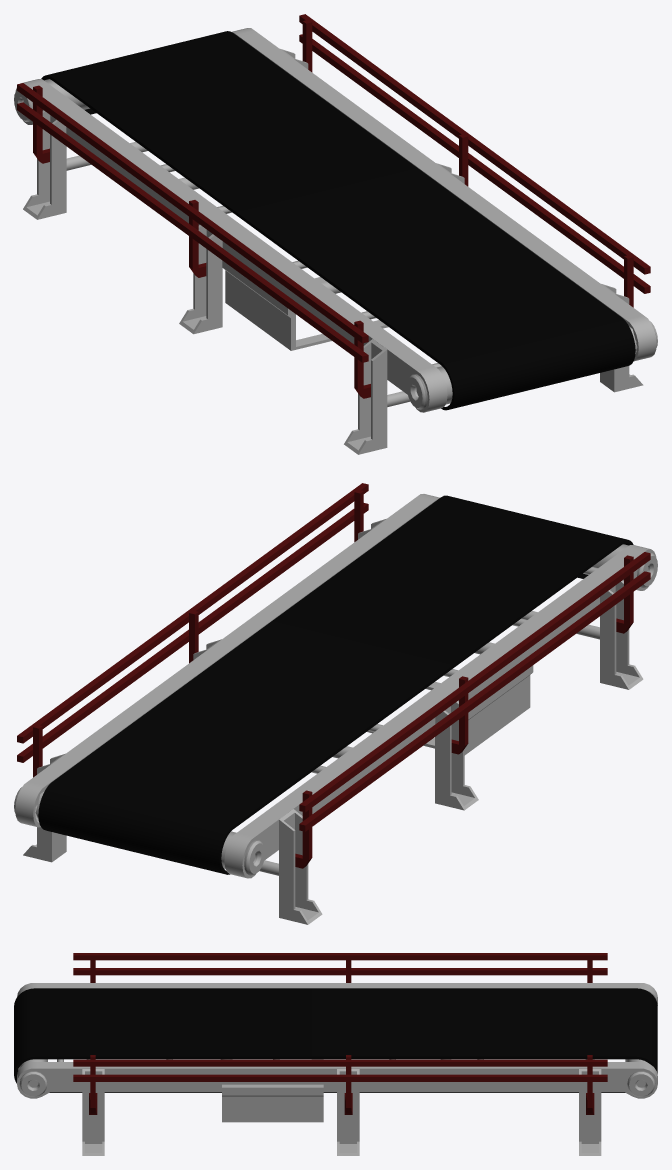
Rendered from SM_ProdLine_transporter_mid_a.FBX.
3 views of the same model, one above another, from view 1: azimuth 30°, elevation 25°; view 2: azimuth 150°, elevation 25°; view 3: azimuth 270°, elevation 25° (orthographic). The views are drawn at different scales.
Visible parts, largest first — view 1: SM_ProdLine_transporter_mid_a_LOD0; view 2: SM_ProdLine_transporter_mid_a_LOD0; view 3: SM_ProdLine_transporter_mid_a_LOD0.
Part boxes in pixels (box(x1,y1,x2,y2)): SM_ProdLine_transporter_mid_a_LOD0: box(14, 14, 657, 454); SM_ProdLine_transporter_mid_a_LOD0: box(14, 483, 657, 924); SM_ProdLine_transporter_mid_a_LOD0: box(14, 953, 657, 1155).
Size of the model in its own units: 151 by 377 by 62.67.
